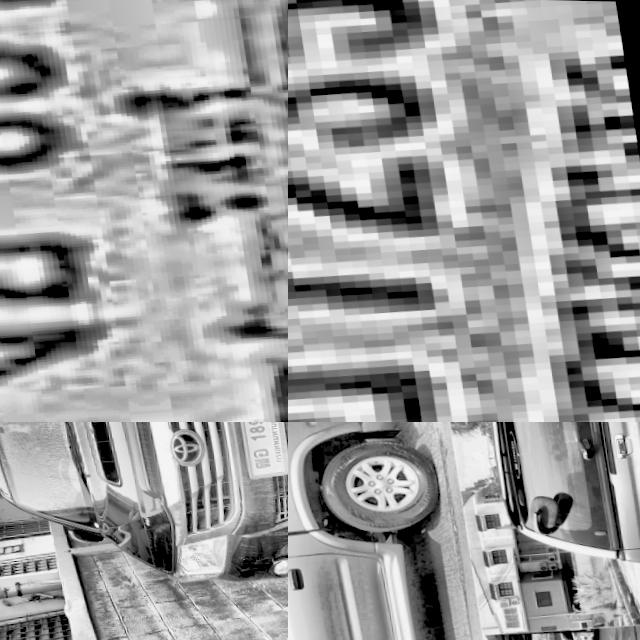license-plate: (288, 0, 640, 422), (0, 0, 288, 422), (230, 422, 288, 479)
